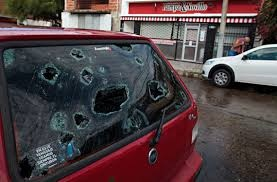Broken-glass: (6, 42, 175, 163)
